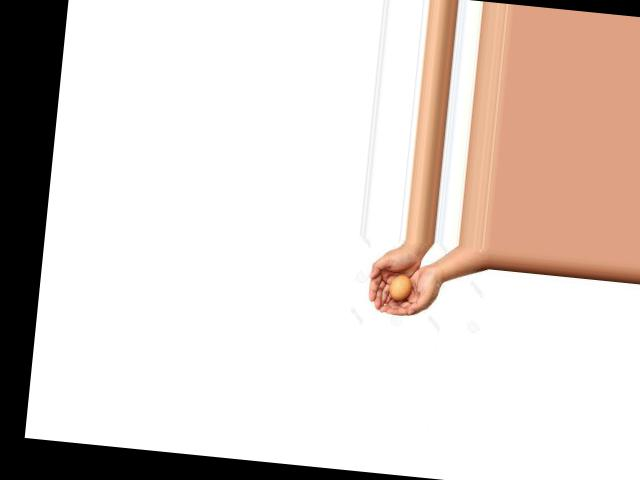egg: (389, 274, 413, 300)
